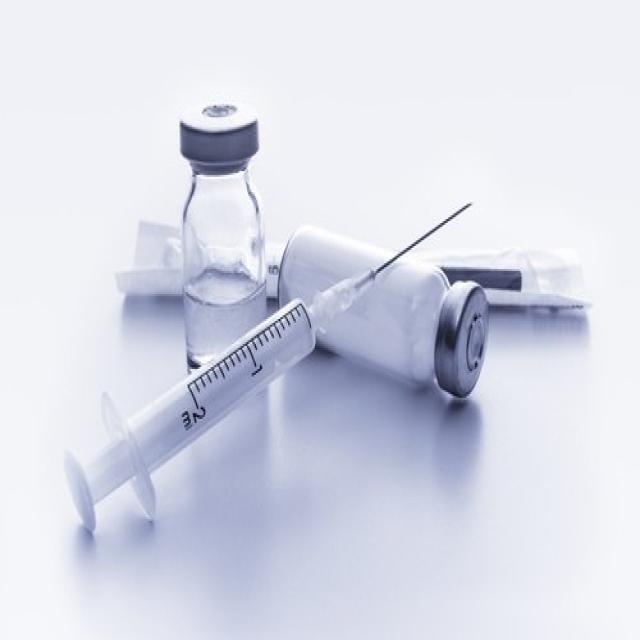B3: (272, 217, 514, 408), (168, 90, 274, 375)
